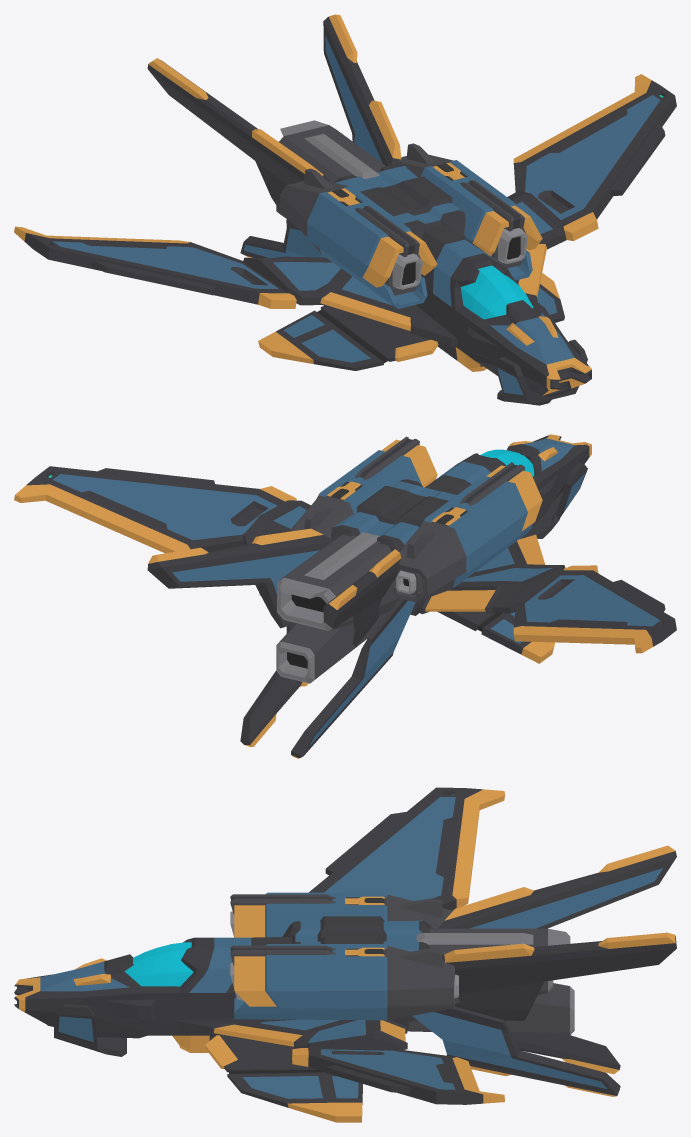
File: spaceship.glb
3 views of the same model, one above another, from view 1: azimuth 30°, elevation 25°; view 2: azimuth 150°, elevation 25°; view 3: azimuth 270°, elevation 25° (orthographic).
Parts seen in each view (by area): view 1: SM_Ship_Fighter_02; view 2: SM_Ship_Fighter_02; view 3: SM_Ship_Fighter_02.
Part boxes in pixels (left/top/right/bottom): SM_Ship_Fighter_02: left=14, top=14, right=676, bottom=405; SM_Ship_Fighter_02: left=14, top=434, right=676, bottom=758; SM_Ship_Fighter_02: left=14, top=787, right=676, bottom=1122.
Bounding box in the file's own units: 15 × 4.48 × 13.71.
